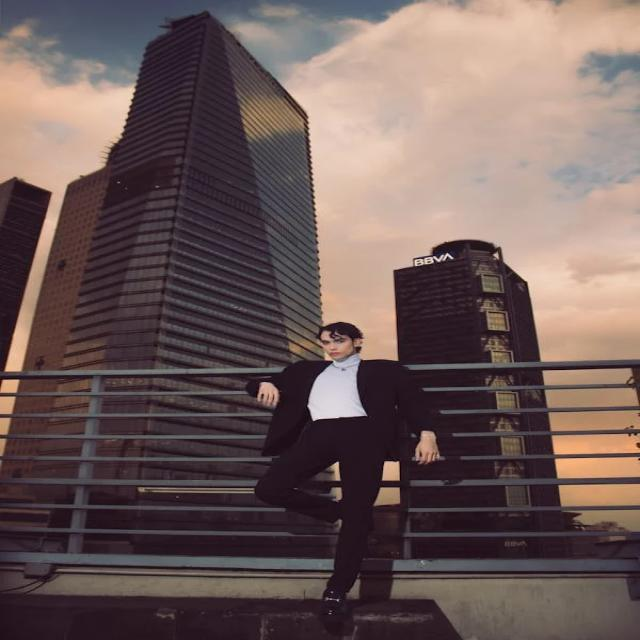Real human 2: (225, 318, 464, 634)
